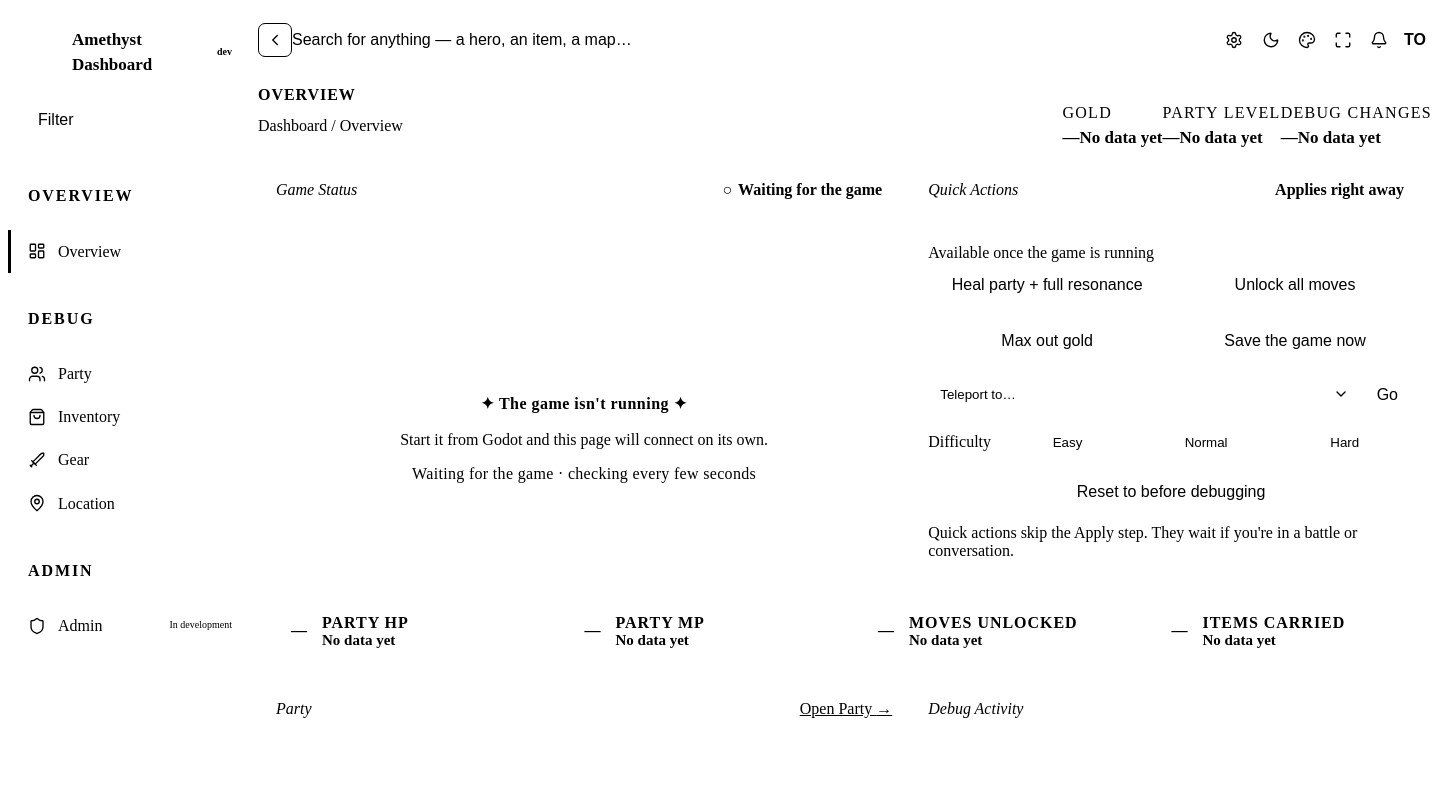
sidebar › a sidebar link goes to its page
This screenshot has width=1440, height=810.
Click the link "Gear": (59, 460) [28, 451, 89, 469]
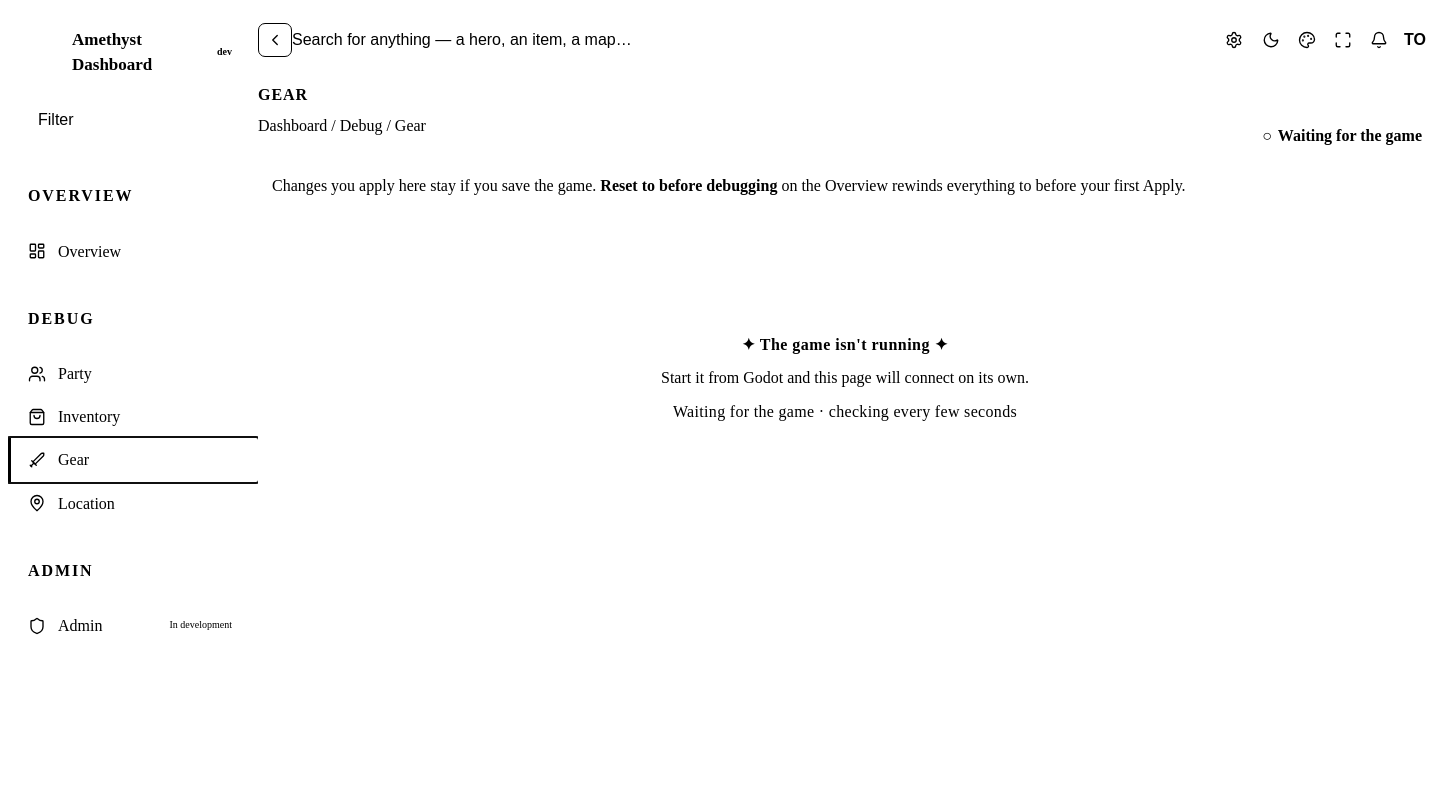
Check: the heading "Gear" is shown, box [258, 86, 308, 103]
